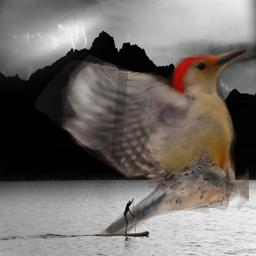Woodpecker: (32, 44, 249, 236)
